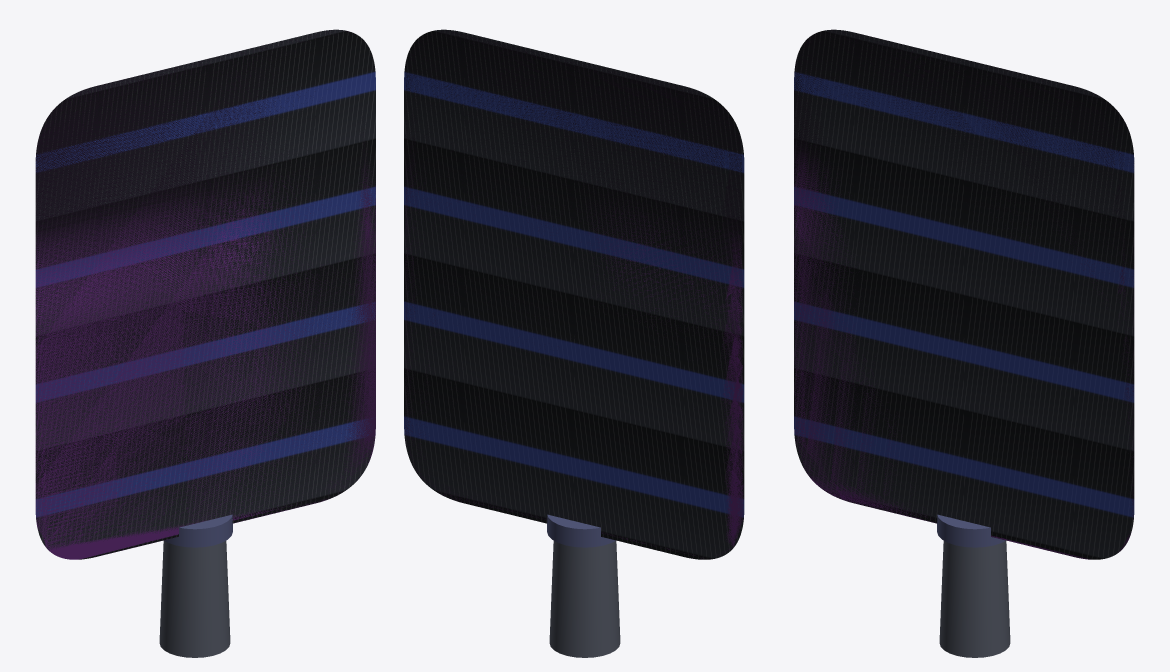
File: paddle-1.glb
3 renders of one model, left to right at view 1: azimuth 30°, elevation 25°; view 2: azimuth 150°, elevation 25°; view 3: azimuth 330°, elevation 25°, orthographic.
Visible parts, largest first — view 1: Edge, Front, Handle, Grip; view 2: Edge, Back, Handle, Grip; view 3: Edge, Front, Handle, Grip.
Boxes of the visible parts, x1=… form: Edge: x1=35, y1=29, x2=375, y2=559; Front: x1=35, y1=30, x2=375, y2=559; Handle: x1=159, y1=541, x2=230, y2=657; Grip: x1=164, y1=514, x2=232, y2=547; Edge: x1=404, y1=29, x2=744, y2=559; Back: x1=405, y1=30, x2=743, y2=559; Handle: x1=549, y1=541, x2=620, y2=657; Grip: x1=547, y1=514, x2=615, y2=547; Edge: x1=794, y1=29, x2=1134, y2=559; Front: x1=794, y1=29, x2=1134, y2=559; Handle: x1=939, y1=541, x2=1010, y2=657; Grip: x1=937, y1=514, x2=1005, y2=547.
Bounding box in the file's own units: 3.1 × 5.15 × 0.6.
5 materials, 3 textured.
